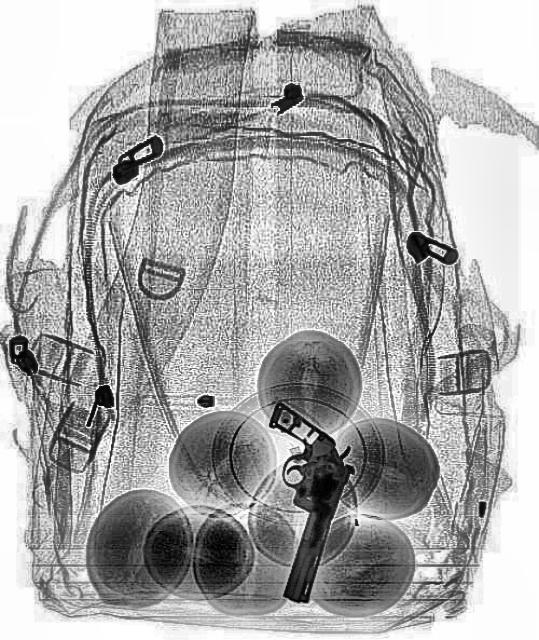Gun: (217, 398, 363, 606)
